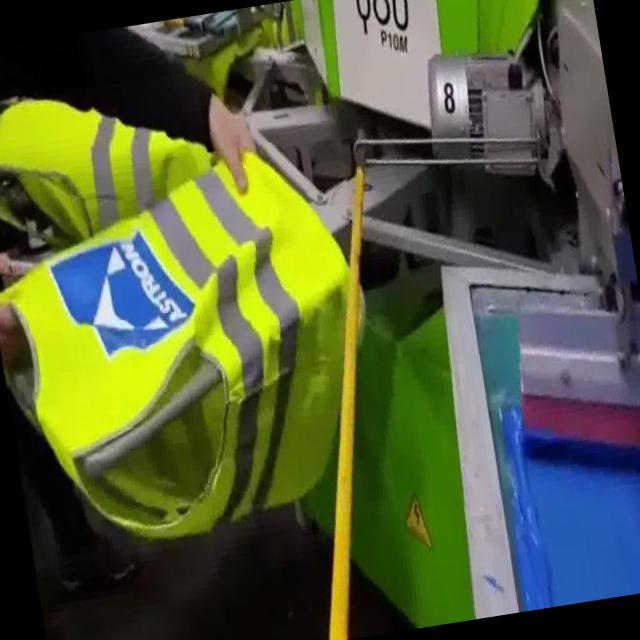Safety Vest: (0, 132, 399, 571), (0, 70, 219, 255)
